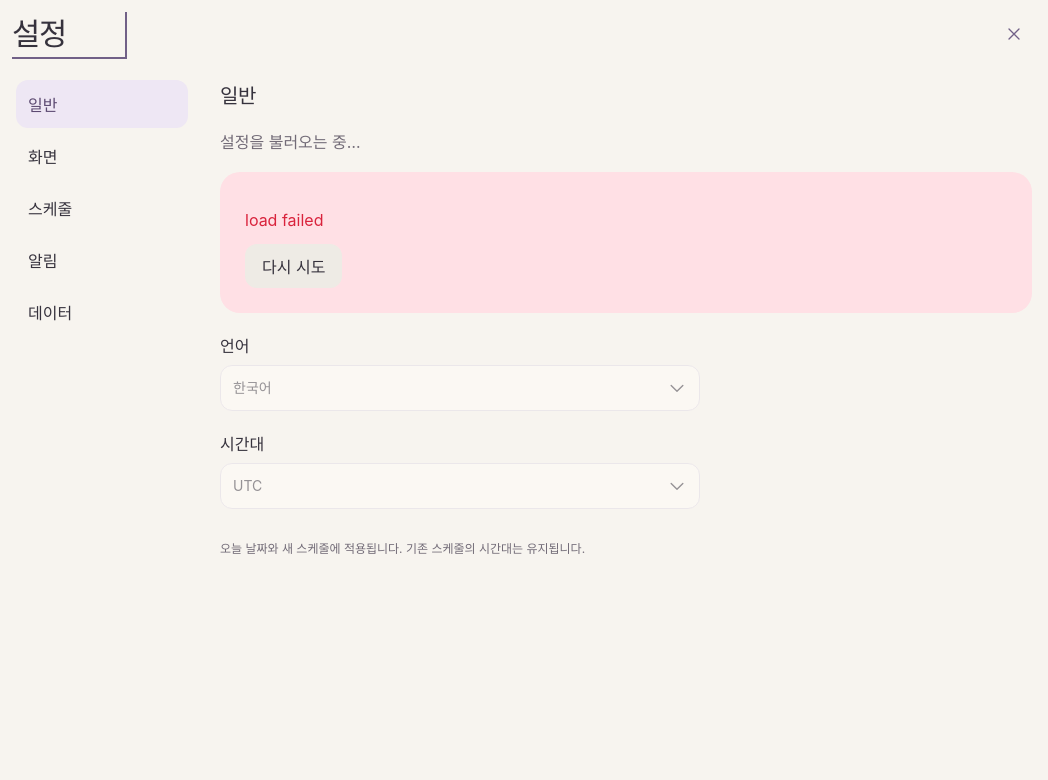
does not enable settings until loading succeeds and supports retry
expect the text "load failed" is shown: met, box left=245, top=210, right=323, bottom=230
expect the dropdown named "언어" is disabled: met, box left=220, top=365, right=700, bottom=411
Step 1. Click the button "다시 시도" → (294, 266), box left=245, top=244, right=342, bottom=288
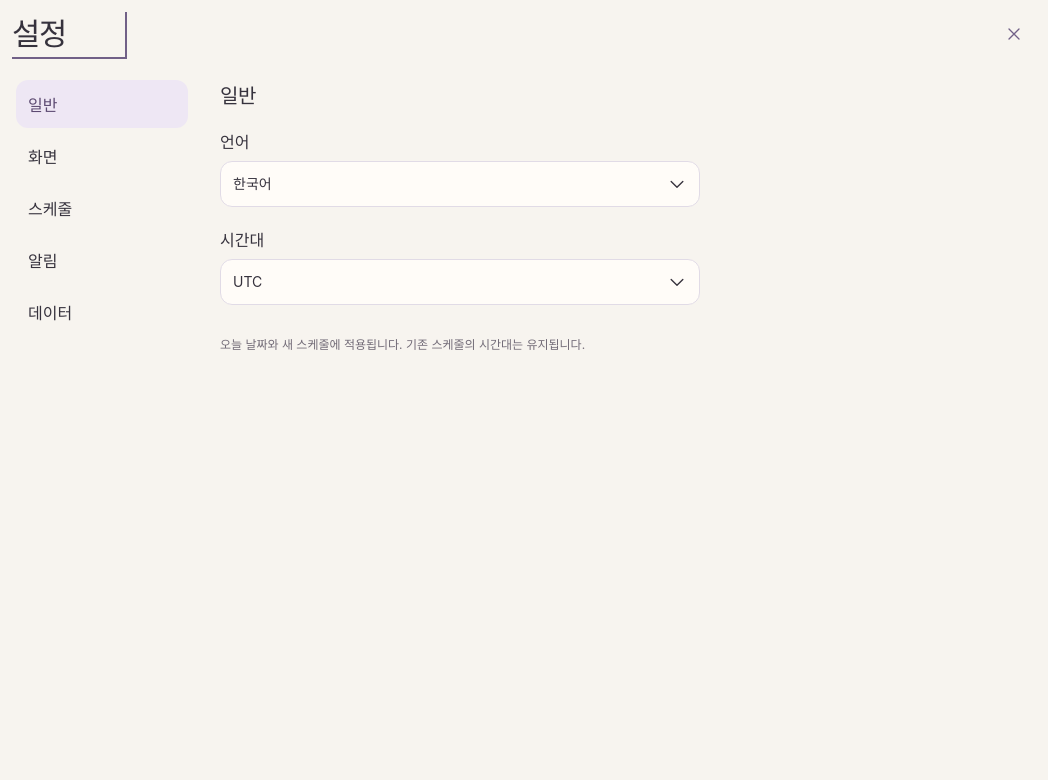
expect the dropdown named "언어" is enabled: met, box left=220, top=161, right=700, bottom=207
